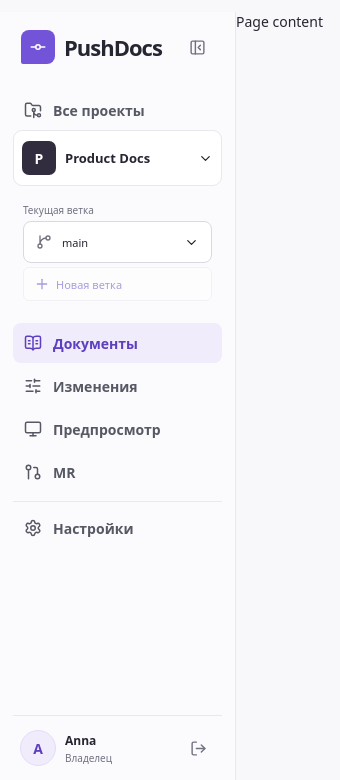
Scenario: AppShell › shows the active project navigation and operator controls
expect the text "Page content" is shown: met, box [236,12,323,31]
expect the link "Настройки" is shown: met, box [24,518,134,538]
Click the button named "Свернуть меню" at point(197, 47), box [180,30,214,64]
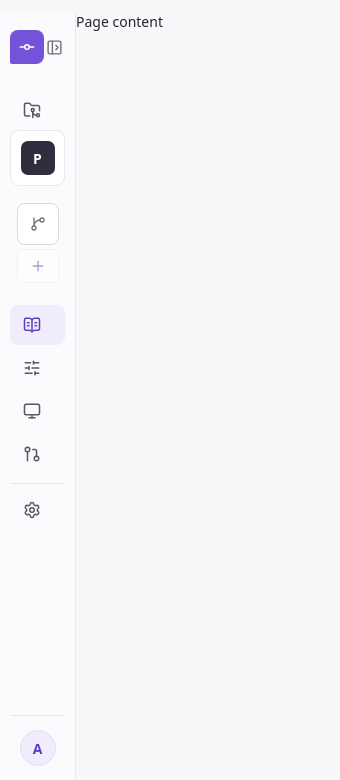
expect the button named "Развернуть меню" is shown: met, box [44,30,65,64]
